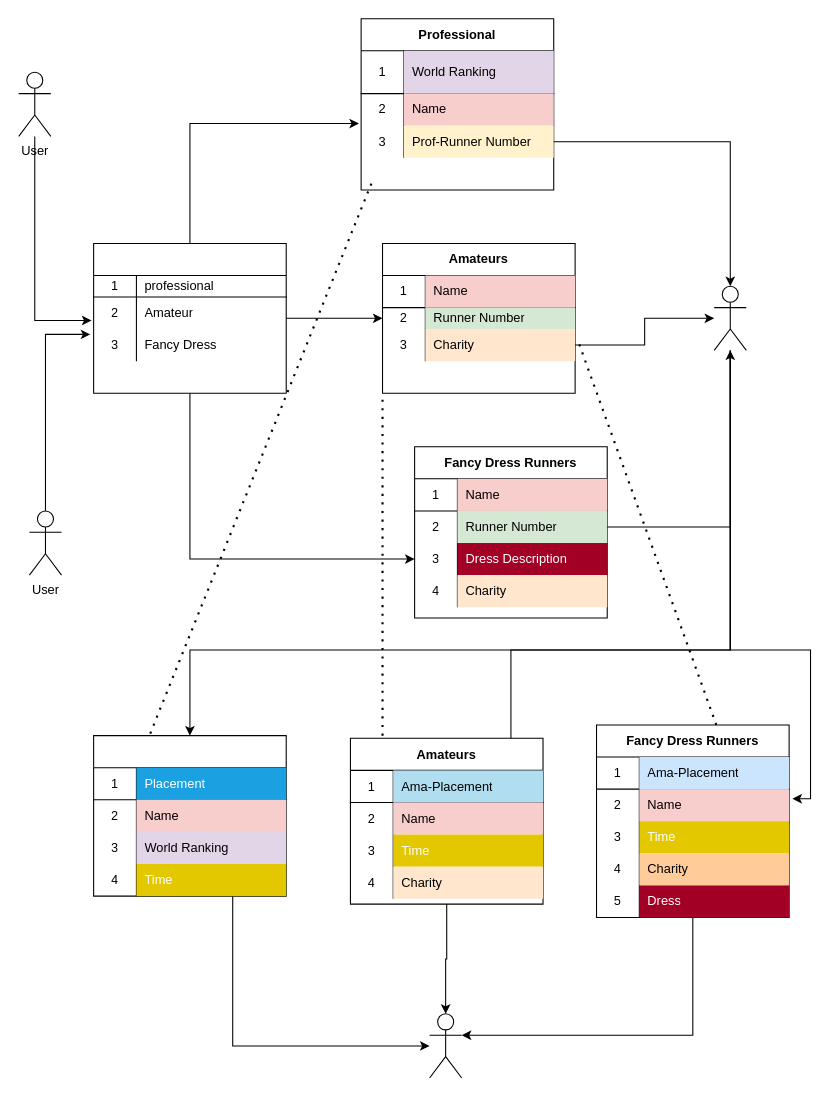
Some shapes in this 838 by 1119 pixel diagram are drawn without their labels. The box of each missing label's shape, as (x1, y1, x2, y2) in pixels:
Competitors: (429, 1013, 462, 1078)
Organiser: (713, 285, 746, 350)
Professional runners: (93, 735, 286, 896)
User Input(Switch Statement: (93, 242, 286, 393)
